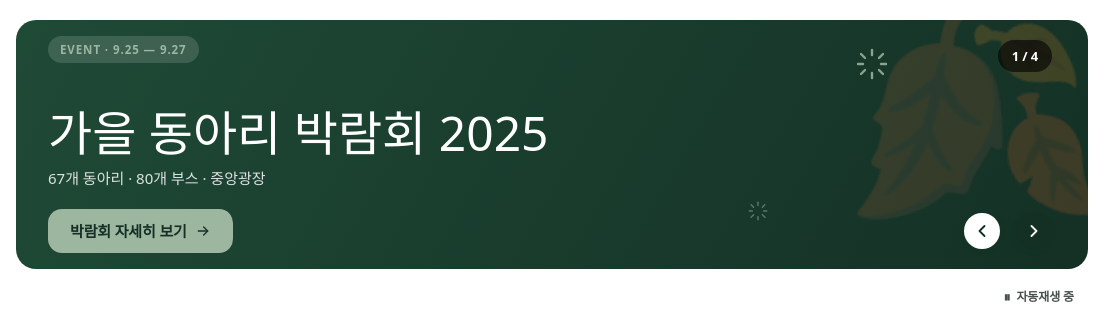
Test case: BannerCarouselClient — 오버레이 컨트롤 › 다음·이전 버튼이 배너를 순환 이동시킨다
The image size is (1105, 319).
Check: the button with test id "banner-pager" reads "1 / 4", box x1=998 y1=40 x2=1052 y2=72
Click the button named "다음 배너": {"x": 1034, "y": 231} x1=1016 y1=213 x2=1052 y2=249
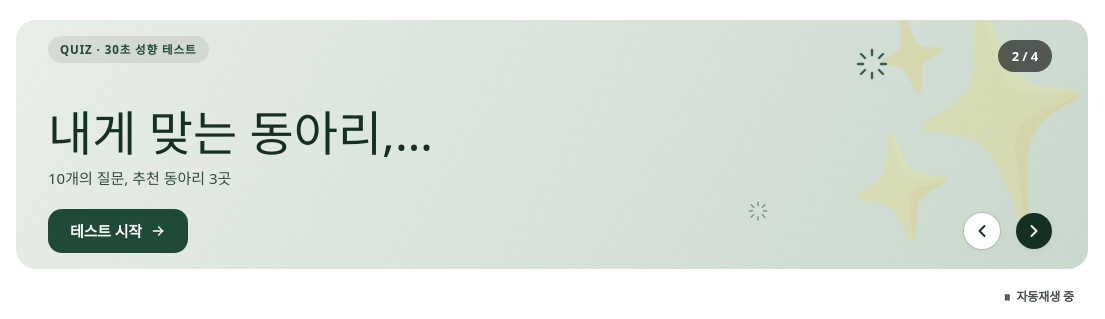
Check: the button with test id "banner-pager" reads "2 / 4", box x1=998 y1=40 x2=1052 y2=72
Click the button named "이전 배너": {"x": 982, "y": 231} x1=964 y1=213 x2=1000 y2=249
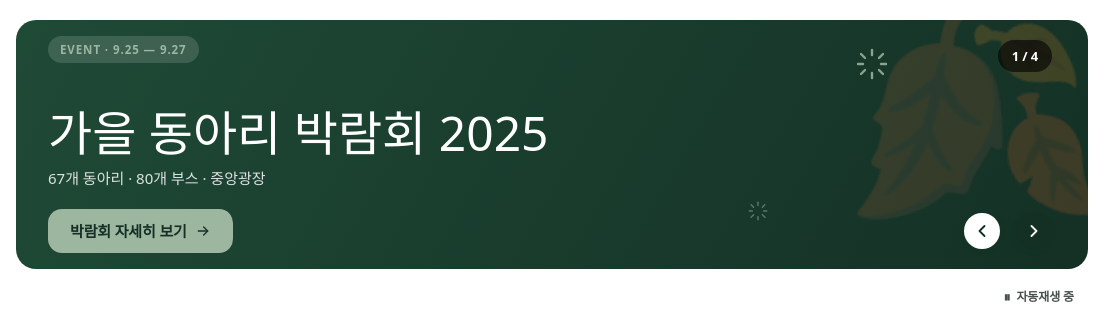
Check: the button with test id "banner-pager" reads "1 / 4", box x1=998 y1=40 x2=1052 y2=72
Note: 첫 배너에서 이전 → 마지막으로 감긴다.
Click the button named "이전 배너": {"x": 982, "y": 231} x1=964 y1=213 x2=1000 y2=249
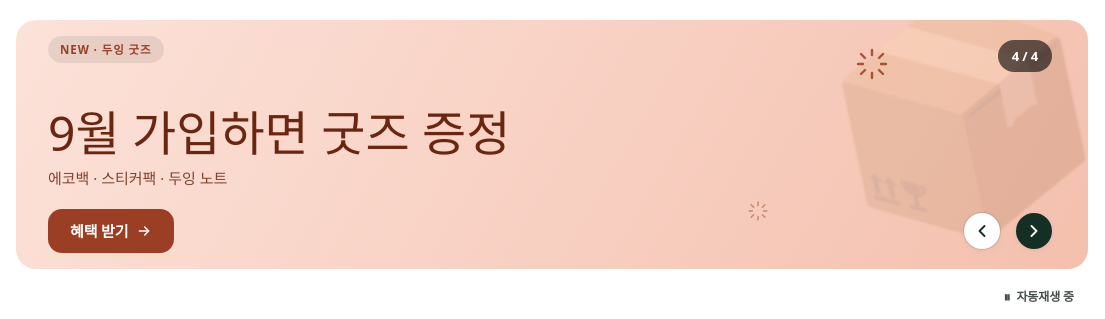
Check: the button with test id "banner-pager" reads "4 / 4", box x1=998 y1=40 x2=1052 y2=72
